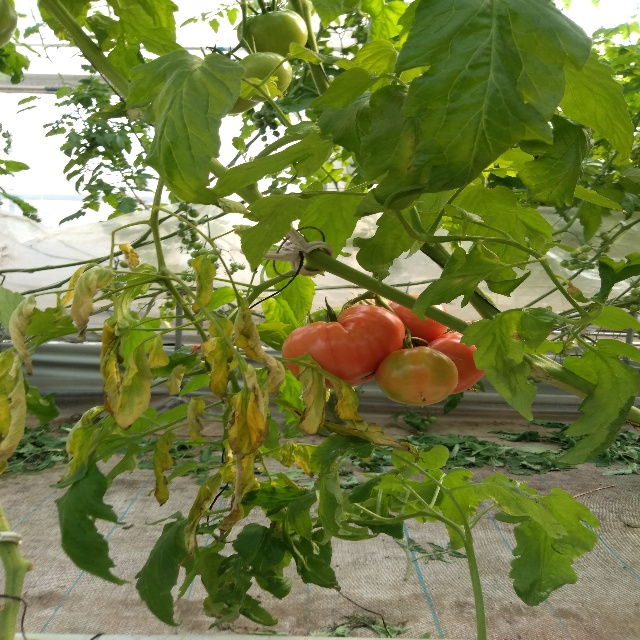b_fully_ripened: (282, 305, 405, 389), (427, 333, 486, 393), (387, 295, 448, 346)
b_green: (235, 9, 308, 56), (239, 51, 293, 103)
b_half_ripened: (376, 346, 459, 407)
